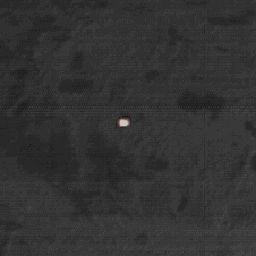Target: (117, 116, 130, 126)
